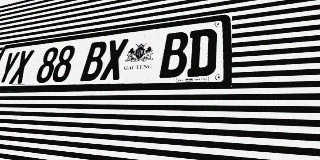8: (50, 44, 78, 82), (34, 46, 61, 83)
B: (159, 31, 189, 78), (80, 41, 108, 81)
D: (186, 28, 217, 77)
X: (100, 38, 129, 80), (9, 50, 35, 84)
Y: (0, 51, 21, 85)
